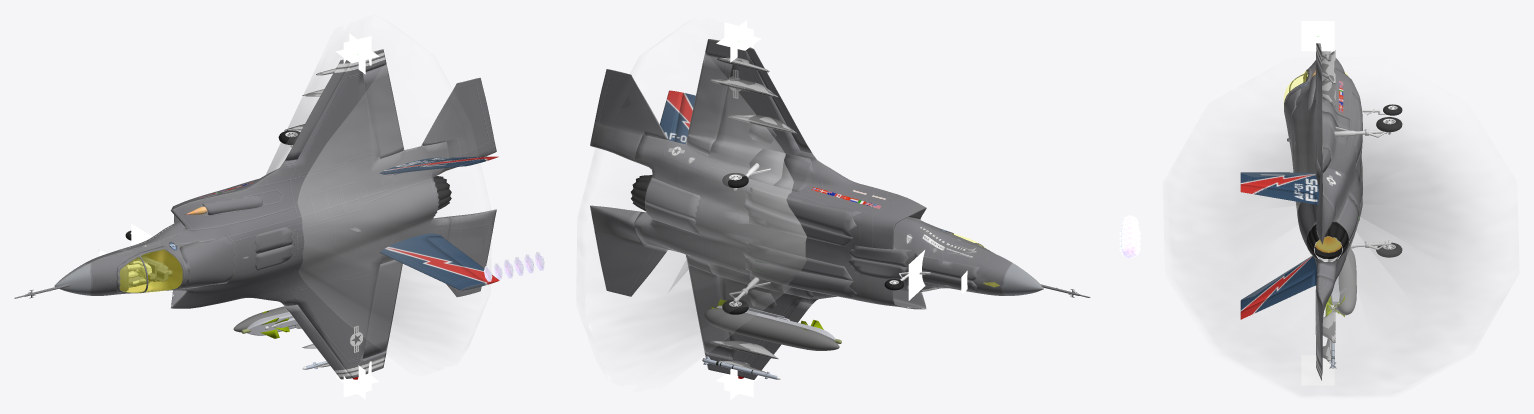
The picture shows the model from 3 angles, left to right: view 1: azimuth 30°, elevation 25°; view 2: azimuth 150°, elevation 25°; view 3: azimuth 270°, elevation 25°; orthographic projection. The views are drawn at different scales.
Visible parts, largest first — view 1: fuselage, ShockWave, elevators, tail, flaperonR, door fan, flaperonL, canopy, Light (×2), spoilerR, spoilerL, antennas (+6 smaller); view 2: fuselage, ShockWave, elevators, Tank, flaperonR, door bayRO, flaperonL, door bayLO, door bayLI, Light (×2), door bayRI, door engineR (+13 smaller); view 3: ShockWave, fuselage, tail, Light (×2), elevators, Tank, rudderL, FlameModel, rudderR, flaperonR, pylons, door engineR (+1 smaller).
Part boxes in pixels (bbox=[...]): fuselage: bbox=[54, 49, 451, 378]; ShockWave: bbox=[266, 75, 451, 341]; elevators: bbox=[421, 77, 496, 297]; tail: bbox=[379, 157, 486, 290]; flaperonR: bbox=[362, 64, 404, 158]; door fan: bbox=[179, 235, 234, 289]; flaperonL: bbox=[362, 260, 402, 358]; canopy: bbox=[120, 249, 182, 292]; Light (×2): bbox=[335, 33, 379, 399]; spoilerR: bbox=[284, 59, 350, 160]; spoilerL: bbox=[284, 304, 351, 379]; antennas: bbox=[14, 196, 360, 298]; fuselage: bbox=[634, 39, 1043, 377]; ShockWave: bbox=[634, 76, 806, 356]; elevators: bbox=[590, 69, 667, 296]; Tank: bbox=[704, 308, 839, 350]; flaperonR: bbox=[685, 55, 732, 154]; door bayRO: bbox=[745, 187, 861, 237]; flaperonL: bbox=[685, 254, 733, 357]; door bayLO: bbox=[745, 257, 860, 300]; door bayLI: bbox=[743, 243, 853, 280]; Light (×2): bbox=[716, 20, 761, 399]; door bayRI: bbox=[743, 203, 852, 246]; door engineR: bbox=[645, 177, 700, 218]; ShockWave: bbox=[1189, 92, 1493, 376]; fuselage: bbox=[1284, 43, 1361, 380]; tail: bbox=[1240, 172, 1319, 310]; Light (×2): bbox=[1301, 21, 1334, 385]; elevators: bbox=[1316, 144, 1334, 374]; Tank: bbox=[1337, 248, 1356, 315]; rudderL: bbox=[1240, 273, 1315, 319]; FlameModel: bbox=[1119, 215, 1140, 258]; rudderR: bbox=[1240, 184, 1315, 204]; flaperonR: bbox=[1316, 59, 1331, 173]; pylons: bbox=[1322, 51, 1335, 361]; door engineR: bbox=[1336, 195, 1358, 240].
Size of the model in its own units: 17.15 by 12.04 by 11.98.
Materials: 58 (20 with a texture image).
